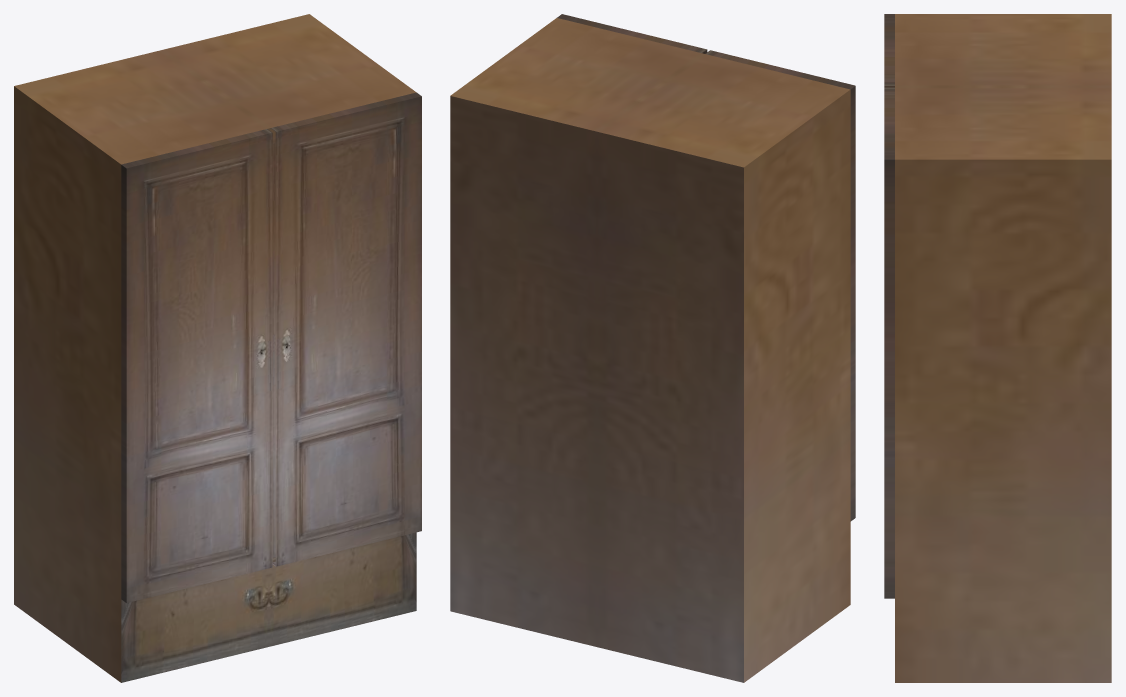
File: ormar.glb
3 renders of one model, left to right at view 1: azimuth 30°, elevation 25°; view 2: azimuth 150°, elevation 25°; view 3: azimuth 270°, elevation 25°, orthographic.
Visible parts, largest first — view 1: Cube, Cube.002; view 2: Cube, Cube.002; view 3: Cube, Cube.002.
Part boxes in pixels (box(x1,y1,x2,y2)): Cube: box(14, 14, 416, 682); Cube.002: box(270, 92, 421, 566); Cube: box(450, 18, 855, 682); Cube.002: box(557, 14, 707, 53); Cube: box(884, 14, 1111, 682); Cube.002: box(884, 87, 894, 598).
Bounding box in the file's own units: 2.36 × 3.96 × 1.56.
1 material, 1 textured.
